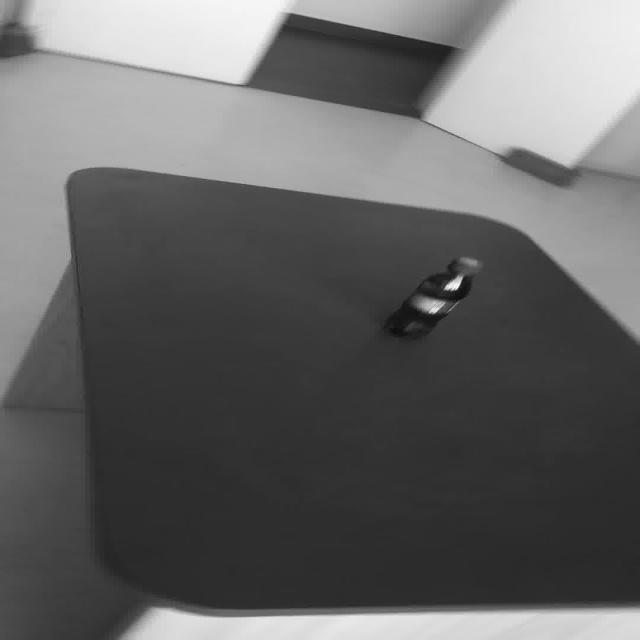guarana: (381, 255, 484, 339)
